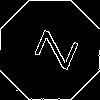Z: (25, 25, 79, 71)
